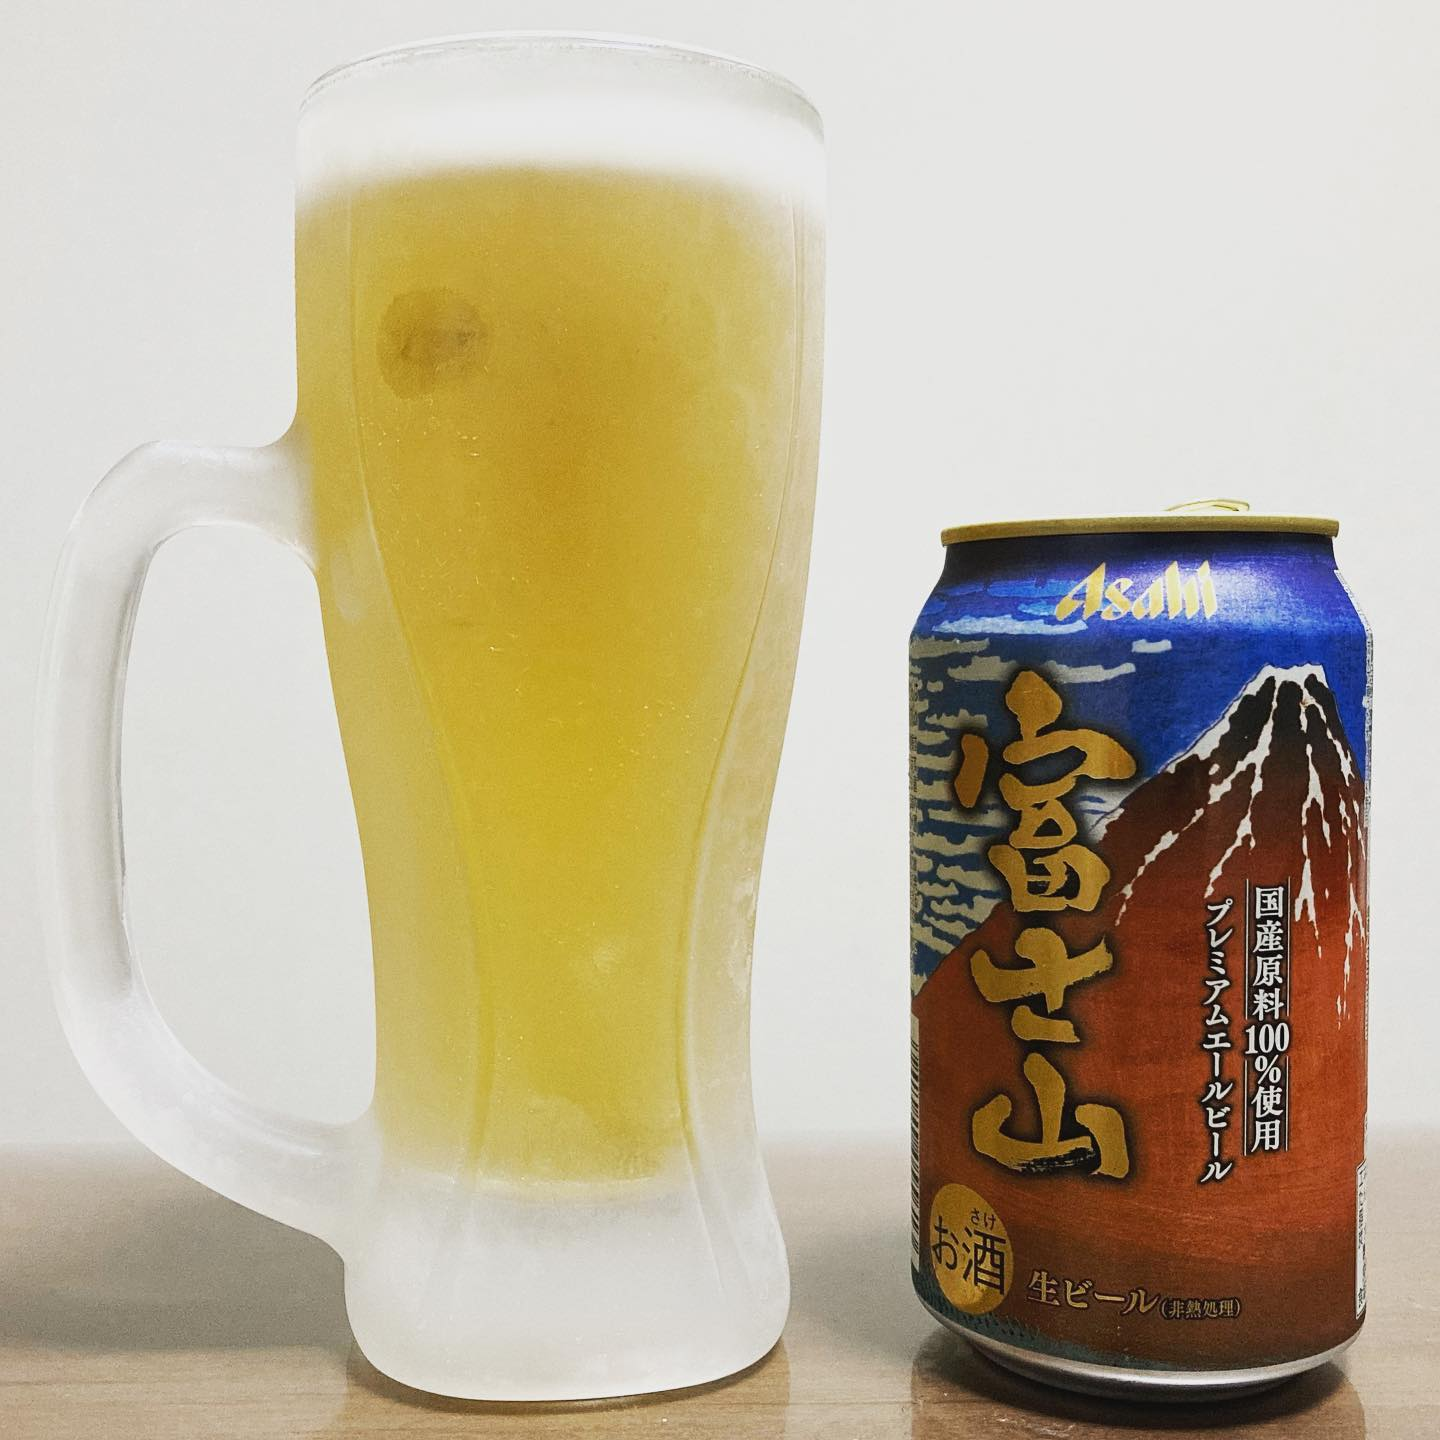alcohol: (287, 21, 837, 1415), (895, 488, 1379, 1414)
